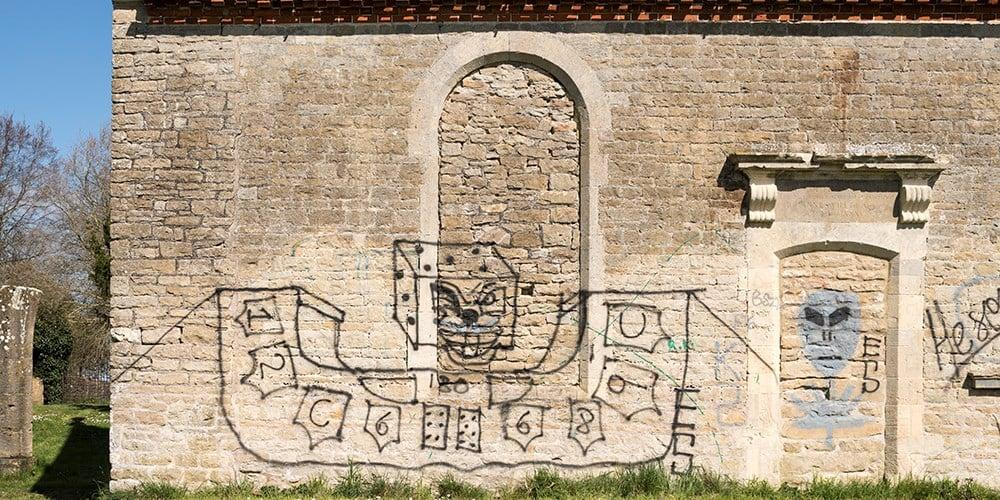graffiti: (213, 286, 714, 471), (384, 234, 518, 354), (793, 292, 882, 429), (925, 292, 1000, 402)
